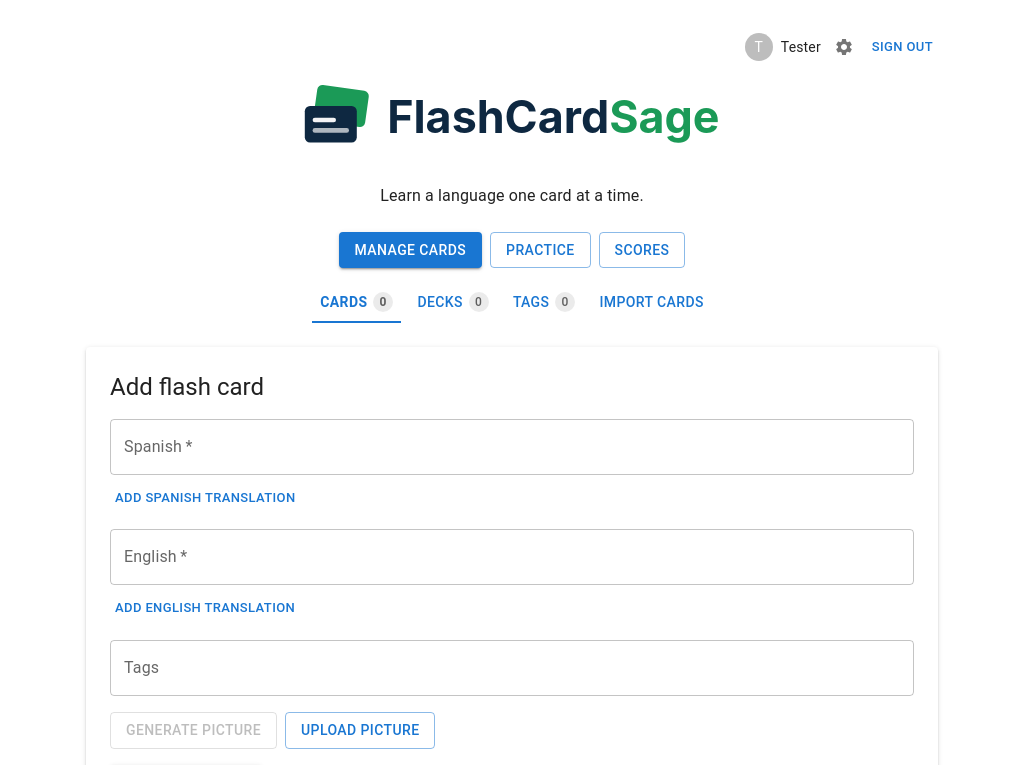
Test case: preferences › links to the page from the top, which shows the preferences the user has
This screenshot has width=1024, height=765.
Click the link named "Preferences" at (844, 47), box [834, 37, 854, 57]
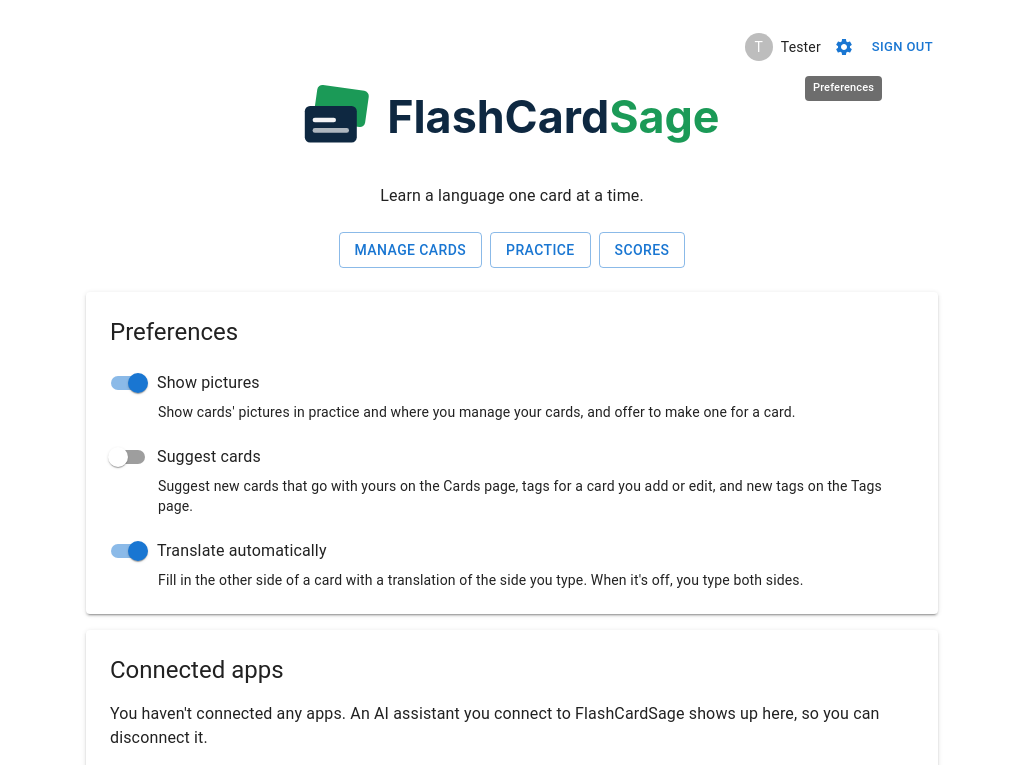
Expected: the heading "Preferences" is shown, [110, 318, 238, 346]
Expected: the switch labelled "Show pictures" is checked, [111, 373, 260, 393]
Expected: the switch labelled "Translate automatically" is checked, [111, 541, 327, 561]
